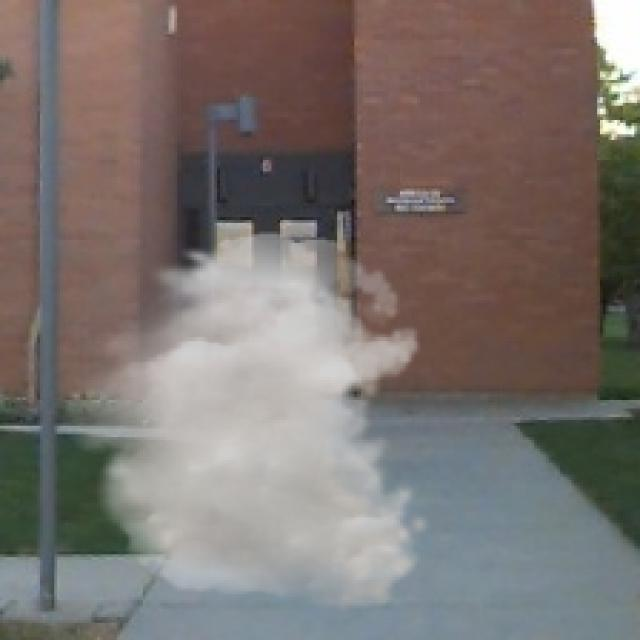smoke: (49, 232, 434, 612)
